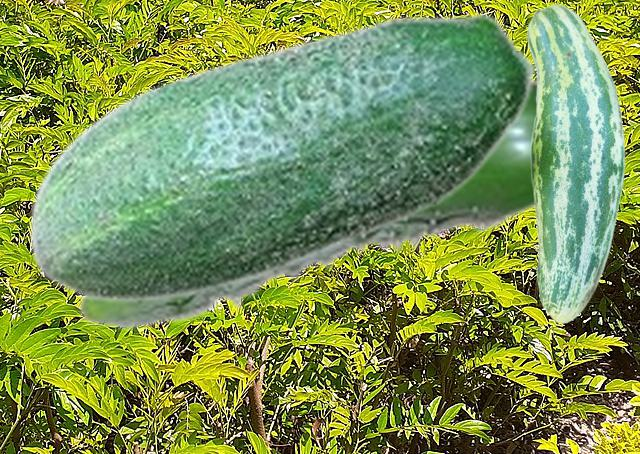cucumber: (27, 11, 535, 302), (76, 88, 535, 329), (526, 3, 624, 323)
